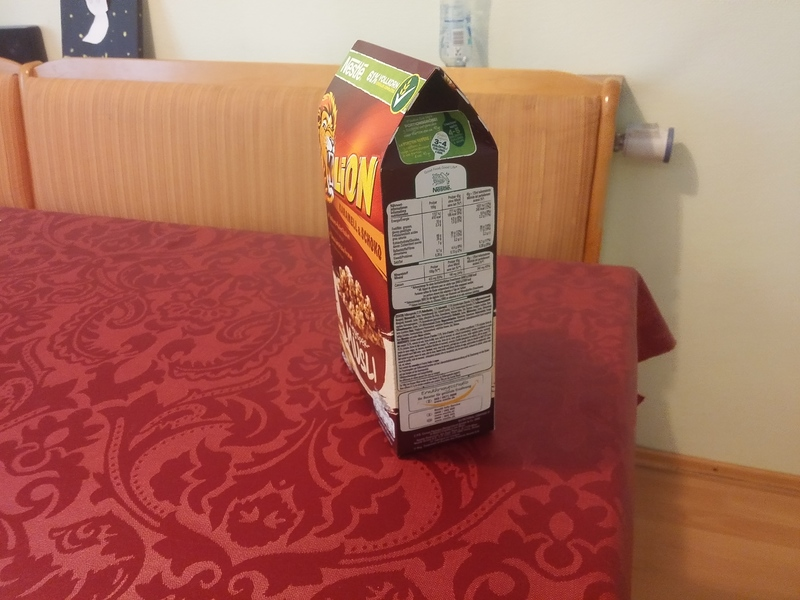cereals: (317, 37, 499, 460)
